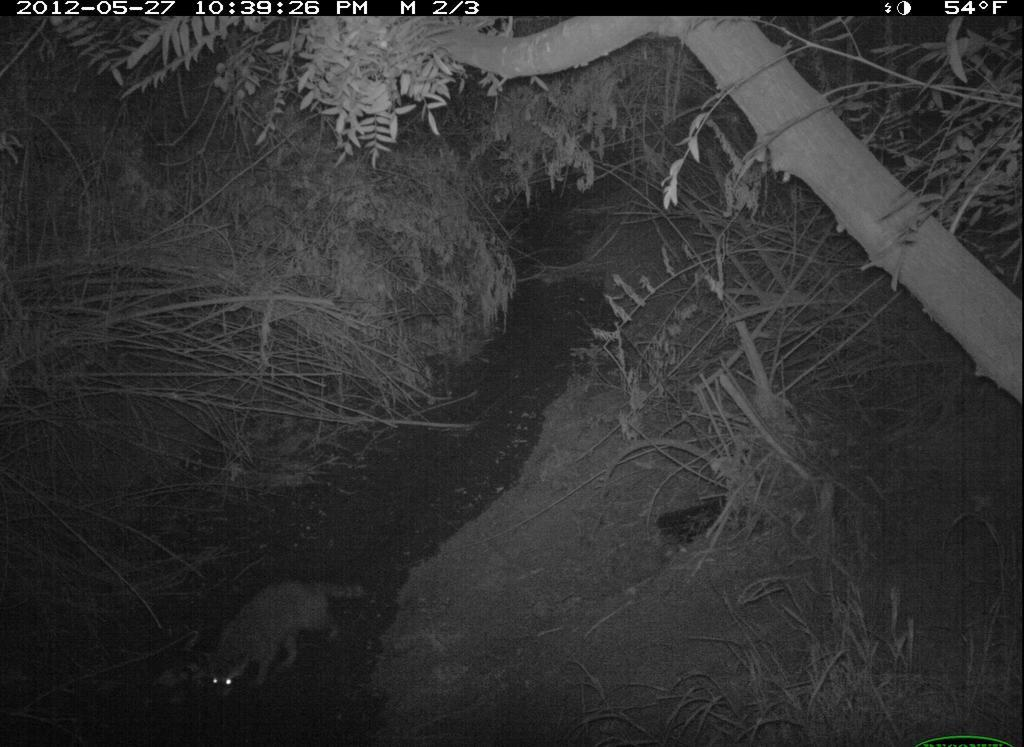raccoon: (193, 574, 360, 702)
